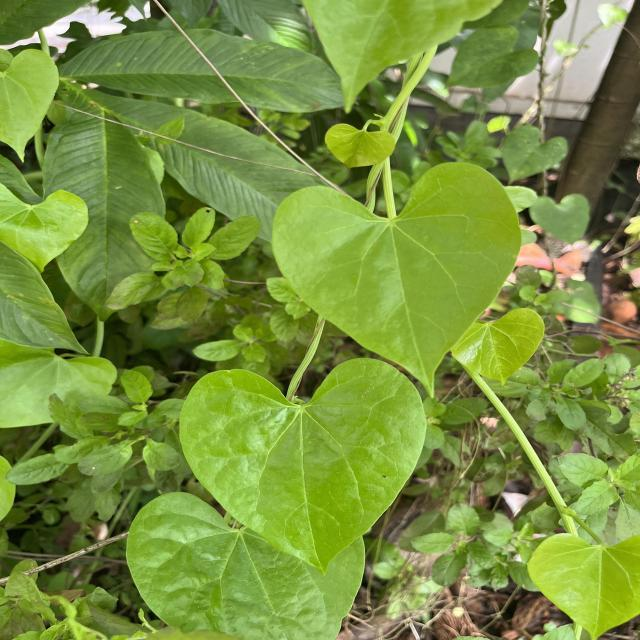Tinospora cordifolia: (268, 158, 524, 402), (176, 354, 430, 578), (122, 488, 368, 640), (525, 529, 640, 640)
